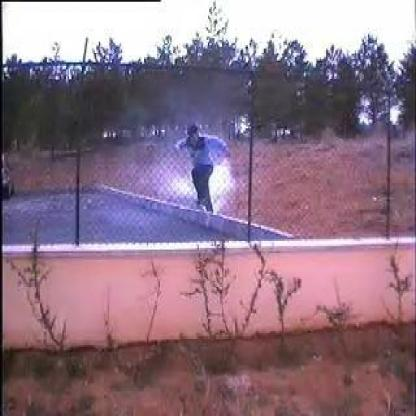-: (166, 159, 236, 207)
